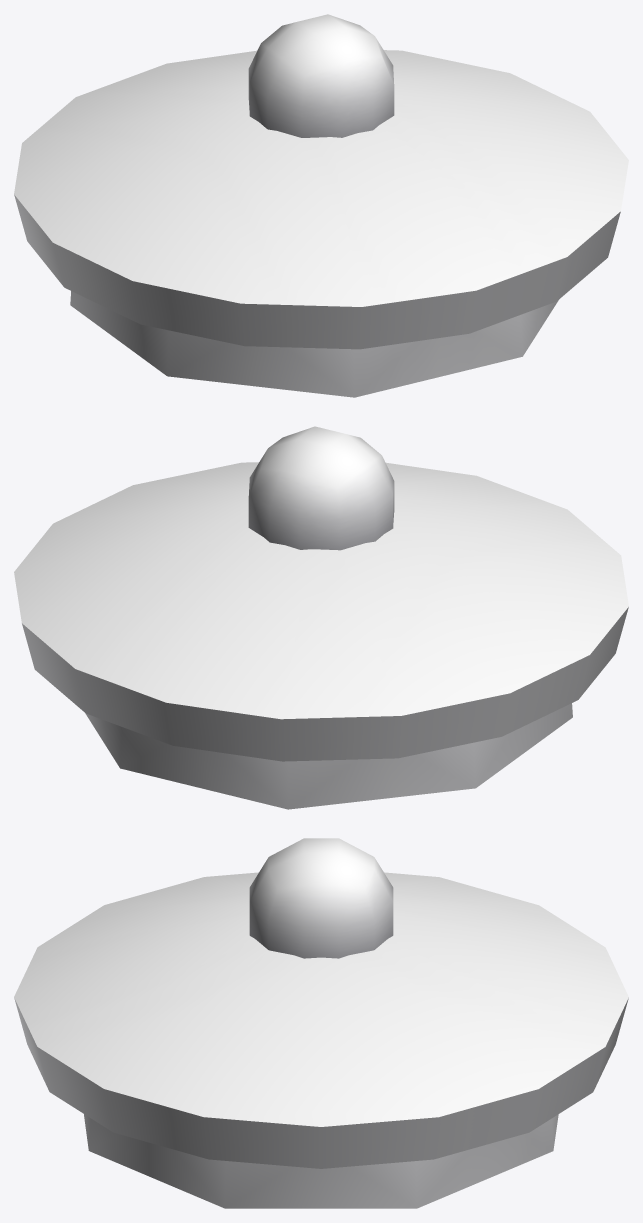
The model's file is m_TeaPot01_Lid.fbx.
3 renders of one model, top to bottom at view 1: azimuth 30°, elevation 25°; view 2: azimuth 150°, elevation 25°; view 3: azimuth 270°, elevation 25°, orthographic.
Visible parts, largest first — view 1: m_TeaPot01_Lid; view 2: m_TeaPot01_Lid; view 3: m_TeaPot01_Lid.
Part boxes in pixels (x1=…): m_TeaPot01_Lid: x1=14, y1=14, x2=628, y2=397; m_TeaPot01_Lid: x1=14, y1=426, x2=628, y2=809; m_TeaPot01_Lid: x1=14, y1=838, x2=628, y2=1208.
Bounding box in the file's own units: 12.67 × 6.01 × 12.67.
